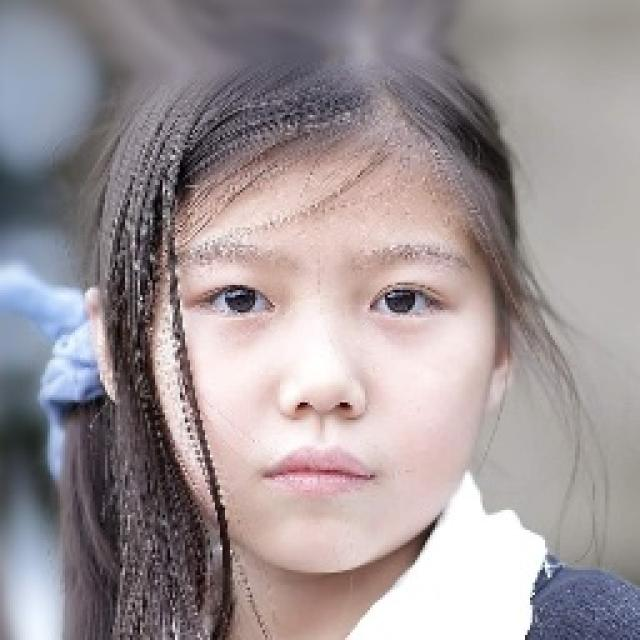no-glasses: (169, 264, 473, 360)
